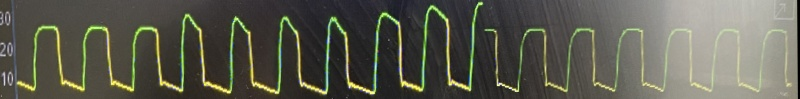normal_pressure: (14, 2, 786, 99)
